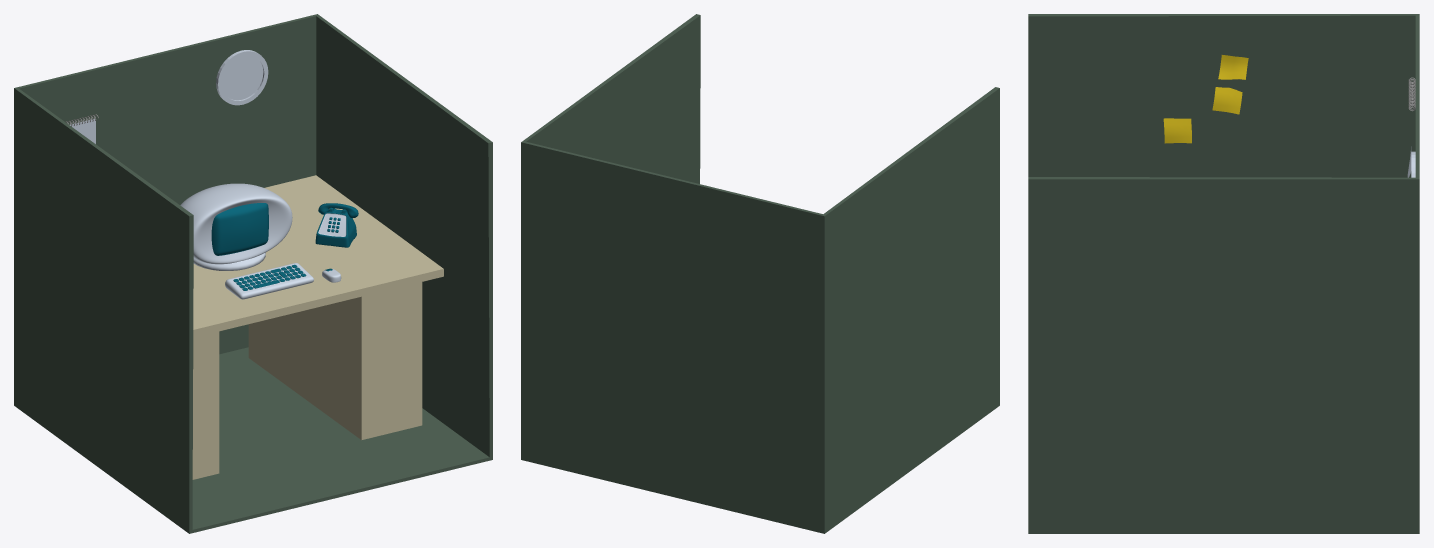
The model's file is desktop.fbx.
The picture shows the model from 3 angles, left to right: view 1: azimuth 30°, elevation 25°; view 2: azimuth 150°, elevation 25°; view 3: azimuth 270°, elevation 25°; orthographic projection. The views are drawn at different scales.
Visible parts, largest first — view 1: Cubicle, Cube.003, Desk, Carcasa, Cube.002, Pantalla, Clock, Cube.004, Case, Cylinder.001; view 2: Cubicle; view 3: Cubicle, postit2, postit1, postit3.
Boxes of the visible parts, x1=… form: Cubicle: x1=14, y1=14, x2=492, y2=533; Cube.003: x1=248, y1=282, x2=422, y2=440; Desk: x1=193, y1=175, x2=443, y2=337; Carcasa: x1=180, y1=183, x2=292, y2=264; Cube.002: x1=192, y1=331, x2=219, y2=479; Pantalla: x1=211, y1=203, x2=268, y2=255; Clock: x1=216, y1=50, x2=268, y2=105; Cube.004: x1=225, y1=263, x2=313, y2=299; Case: x1=315, y1=207, x2=356, y2=247; Cylinder.001: x1=193, y1=252, x2=265, y2=270; Cubicle: x1=521, y1=14, x2=999, y2=533; Cubicle: x1=1028, y1=14, x2=1419, y2=533; postit2: x1=1163, y1=118, x2=1191, y2=143; postit1: x1=1212, y1=87, x2=1242, y2=114; postit3: x1=1218, y1=55, x2=1248, y2=79.
Size of the model in its own units: 205 by 205 by 205.
